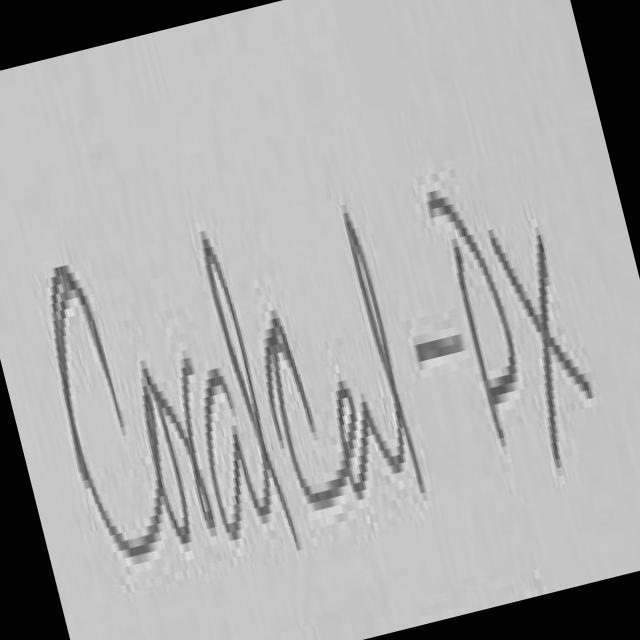C: (54, 268, 158, 550)
D: (429, 192, 516, 441)
X: (491, 233, 594, 462)
a: (205, 370, 262, 534), (334, 369, 391, 507)
c: (272, 310, 345, 503)
l: (202, 231, 300, 545), (345, 213, 425, 487)
o: (142, 361, 190, 543)
r: (145, 361, 214, 524)
